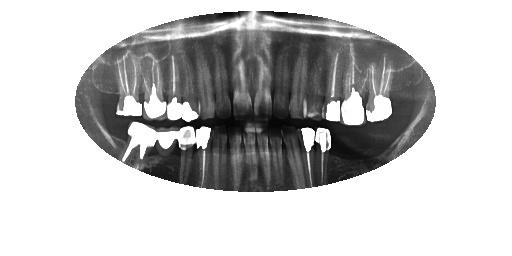i10decay: (224, 121, 248, 186)
i11decay: (208, 121, 231, 187)
i12healthy: (194, 124, 212, 189)
i13healthy: (174, 121, 195, 184)
i14loss: (150, 122, 179, 179)
i15loss: (119, 118, 157, 168)
i2loss: (344, 130, 366, 175)
i3loss: (328, 128, 348, 179)
i4healthy: (311, 124, 333, 186)
i5healthy: (296, 123, 319, 187)
i6decay: (281, 122, 307, 189)
i7decay: (265, 121, 287, 187)
i8decay: (251, 120, 274, 191)
i9decay: (239, 120, 260, 190)
u10decay: (206, 43, 235, 122)
u11healthy: (188, 41, 220, 122)
u12healthy: (179, 48, 200, 119)
u13healthy: (164, 45, 187, 124)
u14healthy: (135, 51, 171, 121)
u15healthy: (111, 50, 146, 119)
u2healthy: (360, 49, 399, 130)
u3healthy: (340, 43, 369, 132)
u4healthy: (321, 45, 347, 126)
u5decay: (304, 39, 328, 125)
u6healthy: (289, 38, 312, 120)
u7decay: (272, 39, 291, 120)
u8decay: (251, 32, 276, 117)
u9decay: (225, 35, 255, 119)
